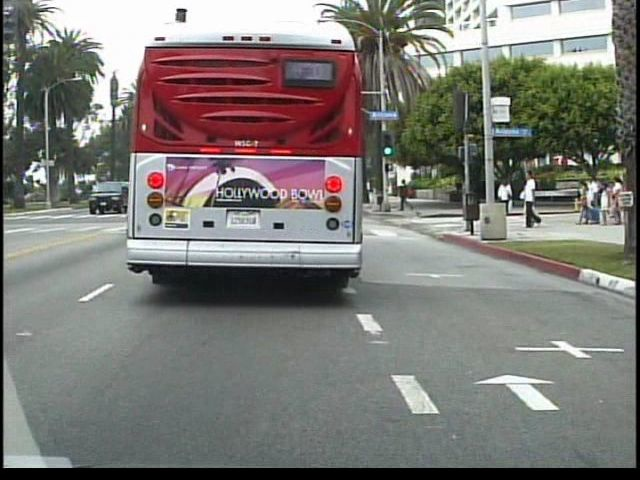person: (521, 167, 543, 228), (497, 175, 517, 216), (398, 176, 418, 216), (459, 177, 476, 216)
